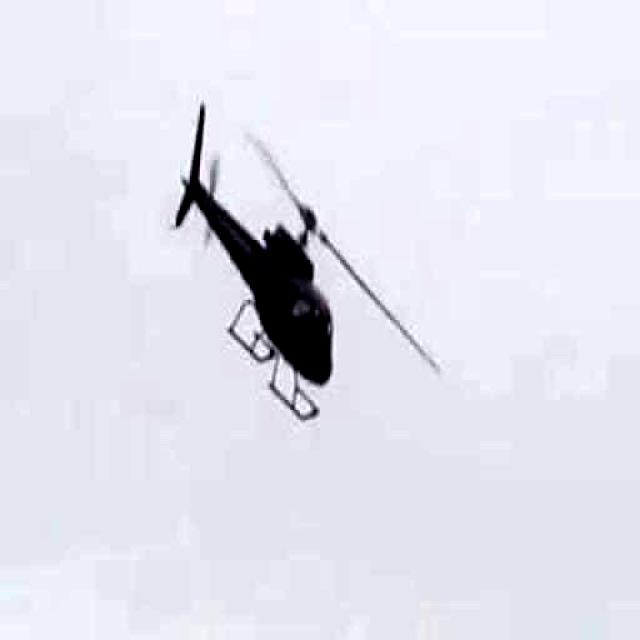drone: (98, 62, 421, 464)
